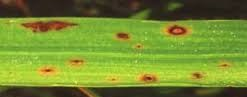Bercak Coklat: (22, 19, 80, 36), (163, 23, 193, 41), (137, 71, 163, 84), (112, 30, 134, 43), (35, 65, 60, 76)
